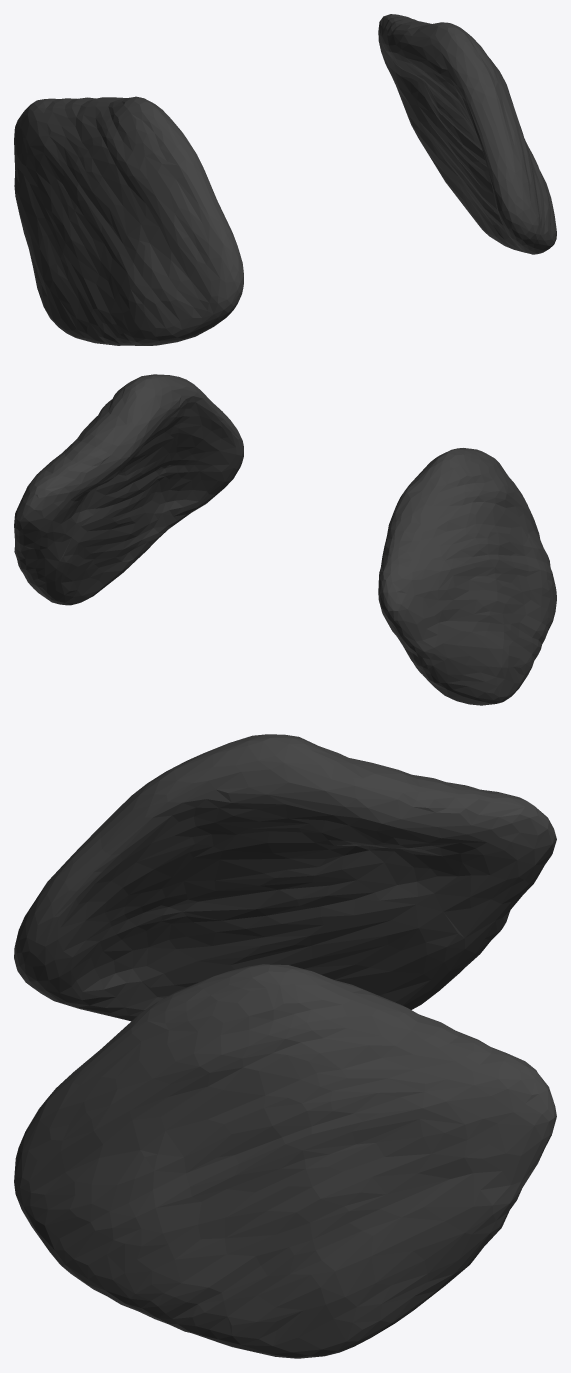
File: m_masseter_superficialis.glb
The picture shows the model from 3 angles, top to bottom: view 1: azimuth 30°, elevation 25°; view 2: azimuth 150°, elevation 25°; view 3: azimuth 270°, elevation 25°; orthographic projection. The views are drawn at different scales.
Visible parts, largest first — view 1: m_masseter_superficialis; view 2: m_masseter_superficialis; view 3: m_masseter_superficialis.
Boxes of the visible parts, x1,y1,x2,y2 form: m_masseter_superficialis: (14,14,556,345); m_masseter_superficialis: (14,374,556,705); m_masseter_superficialis: (14,734,556,1358).
Bounding box in the file's own units: 0.00289 × 0.00136 × 0.00192.
Materials: 1 (1 with a texture image).
